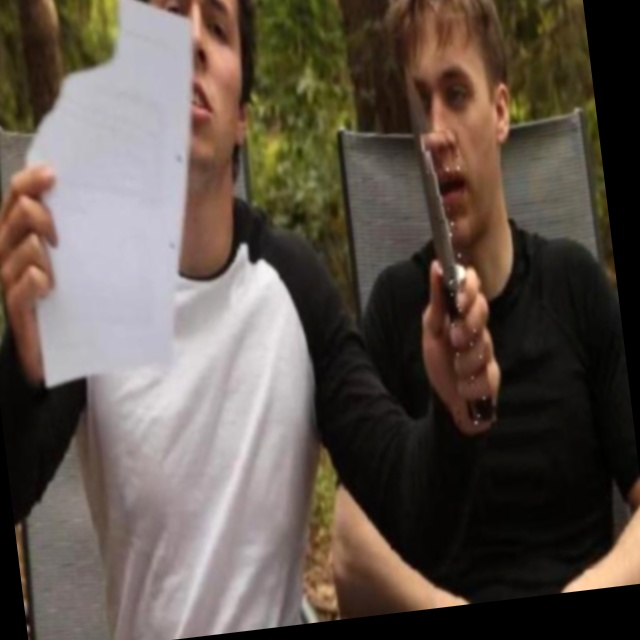Sharp-Object: (423, 128, 491, 426)
